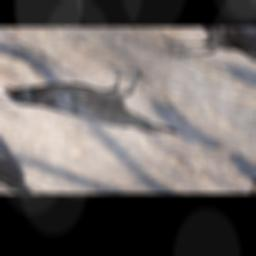Crow: (0, 42, 215, 166)
